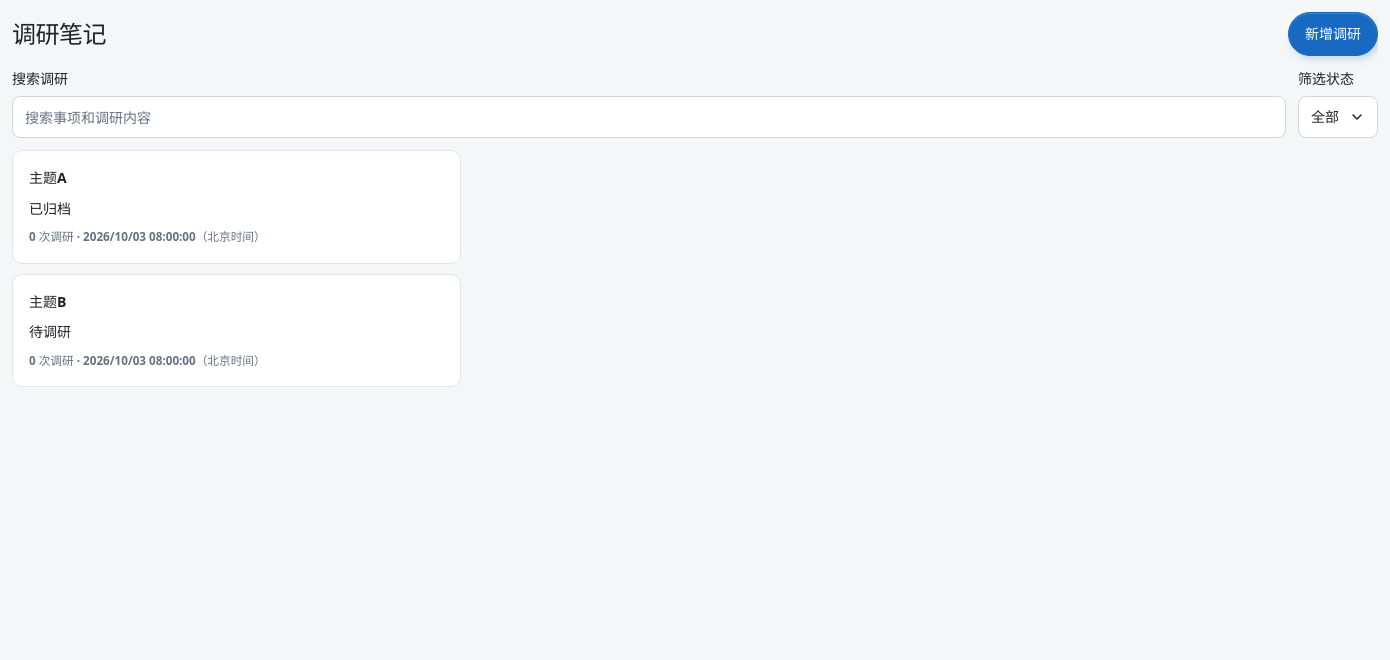
调研笔记 › 搜索研究内容并按状态筛选，保留当前详情
Click the button "主题A 已归档 0 次调研 · 2026/10/03 08:00:00（北京时间）": click(48, 178) top-left (12, 150), bottom-right (461, 264)
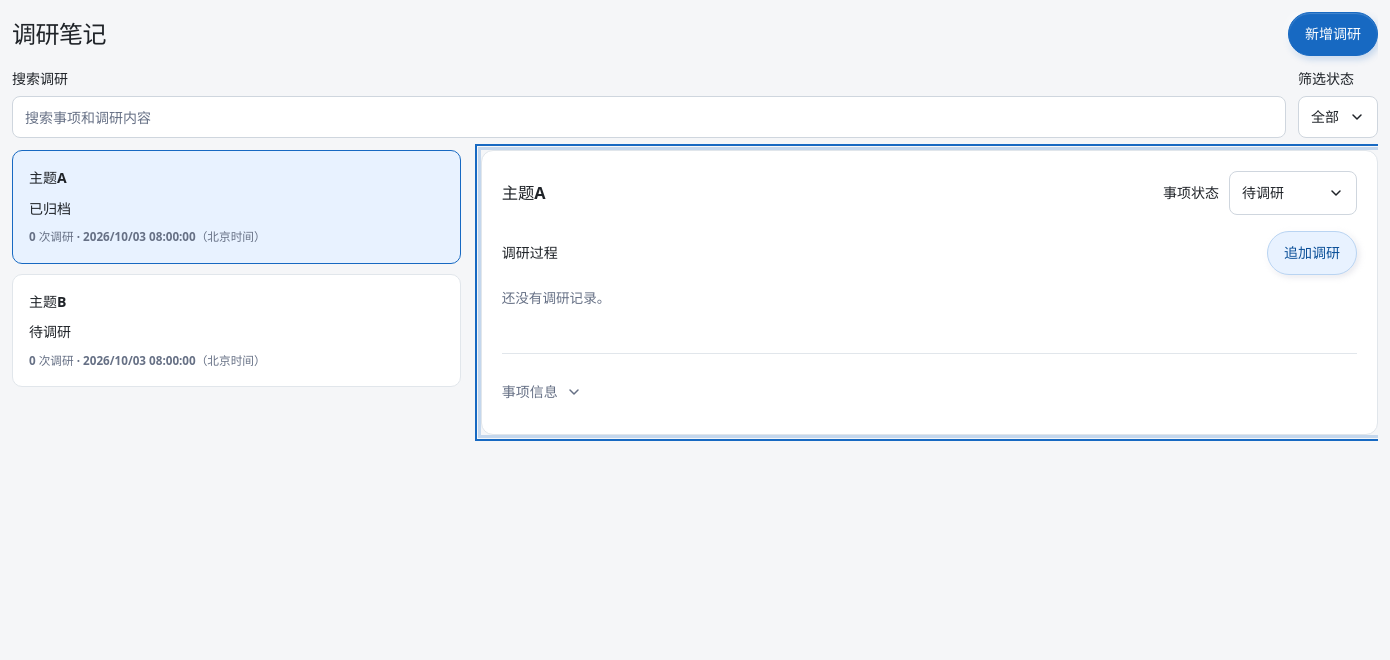
Click the button "追加调研": click(1312, 253) top-left (1267, 231), bottom-right (1357, 275)
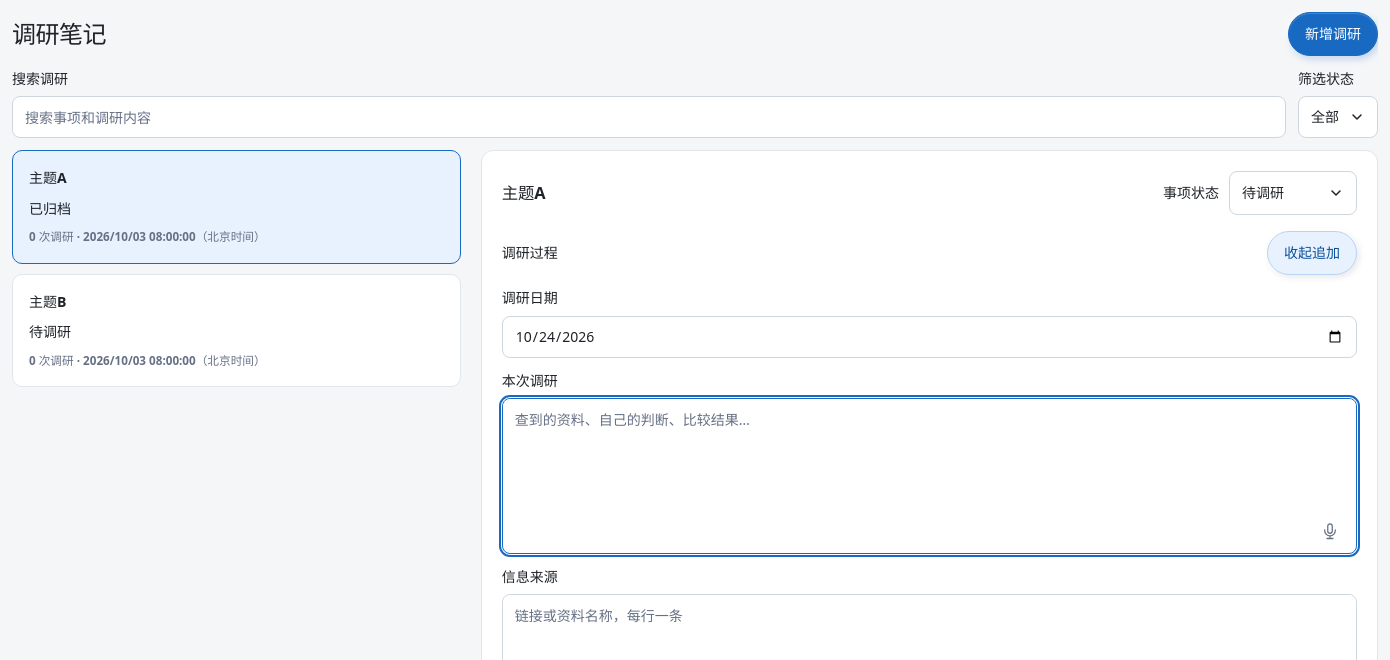
Click the dropdown labelled "全部": click(1338, 117) top-left (1298, 96), bottom-right (1378, 138)
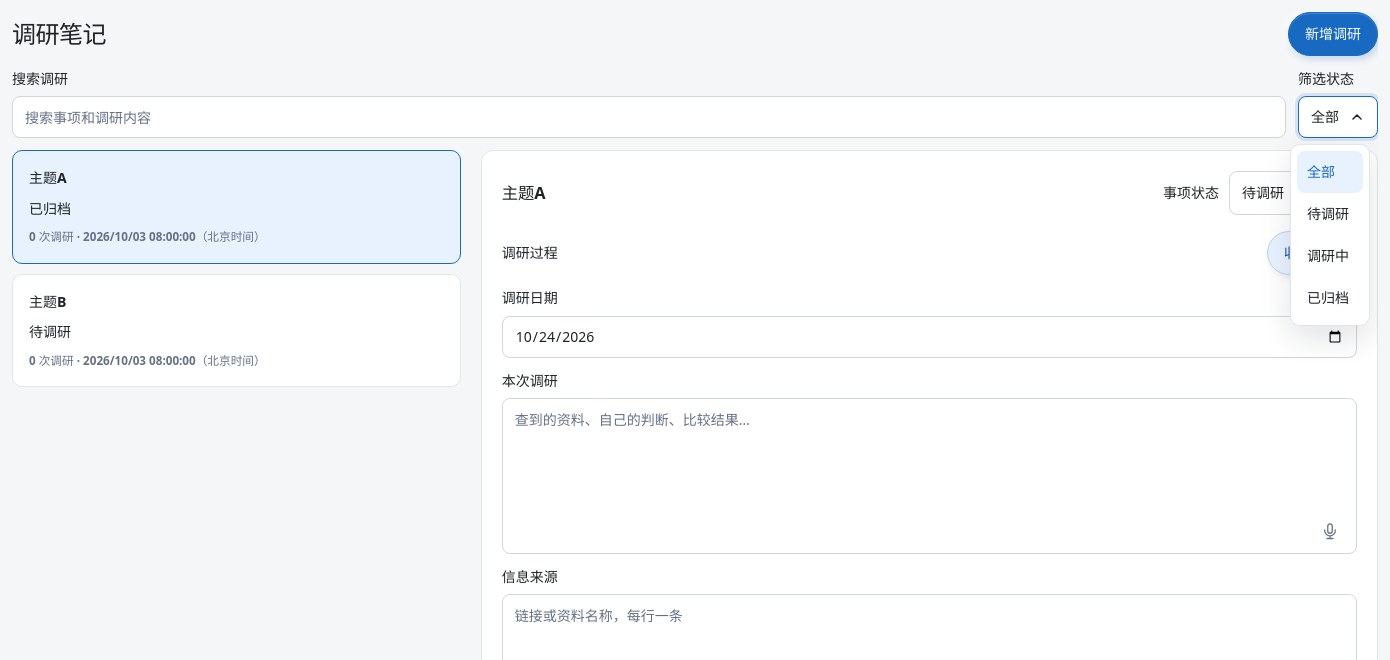
Click the option "已归档": click(1330, 298) top-left (1297, 277), bottom-right (1363, 319)
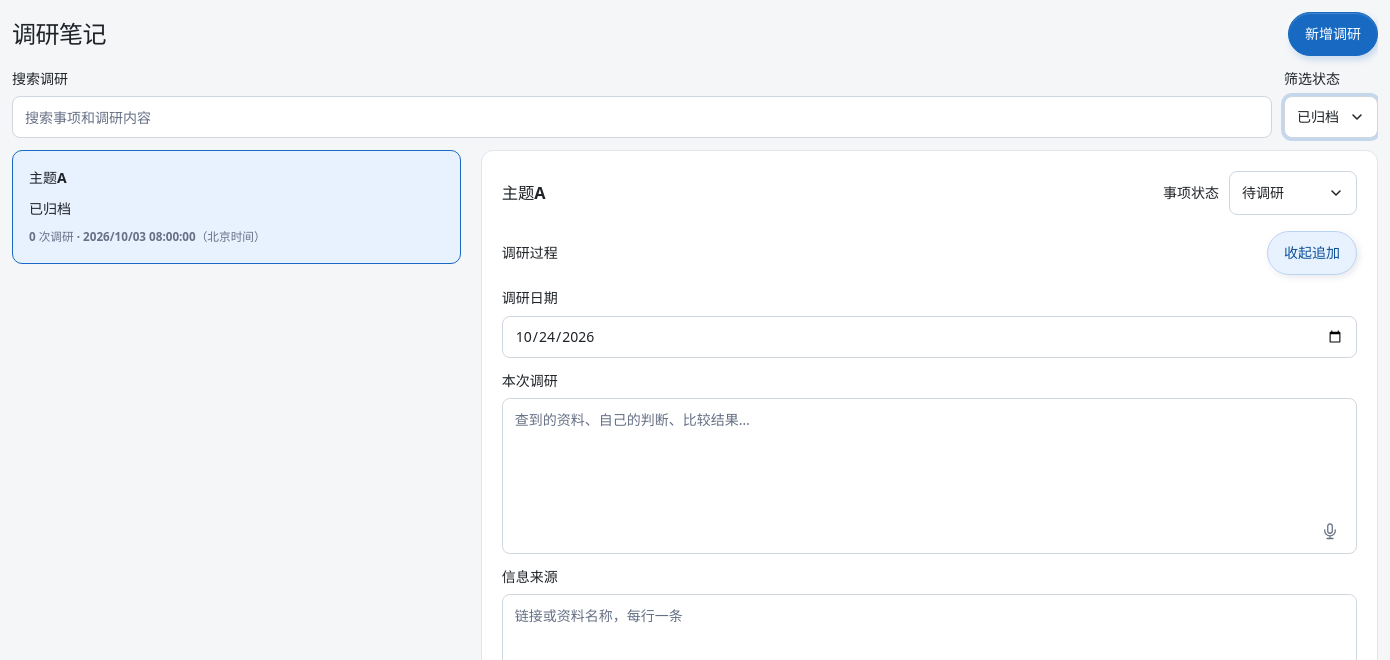
Expected: the button "主题B" is gone
In the search field labelled "搜索调研": (642, 117) top-left (12, 96), bottom-right (1272, 138), type "不存在的主题"
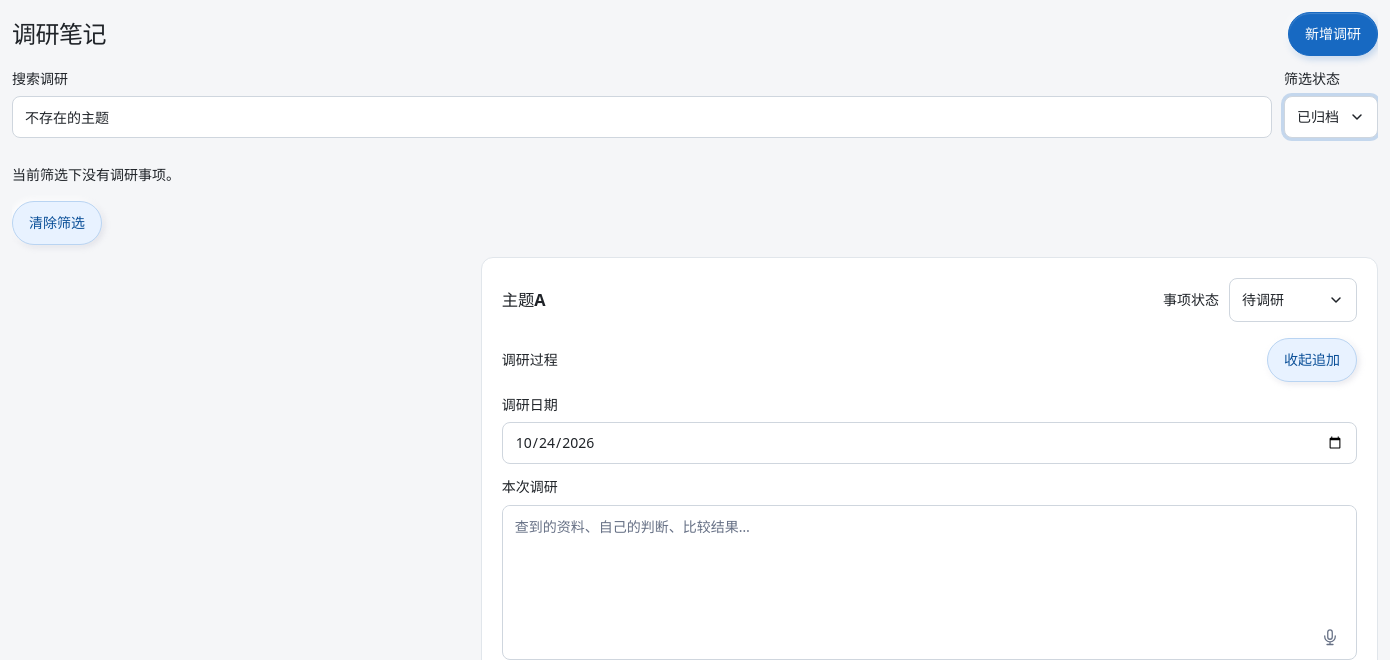
Expected: the heading "主题A" is shown, top-left (502, 289), bottom-right (546, 311)
Expected: the text "当前筛选下没有调研事项。" is shown, top-left (12, 165), bottom-right (180, 184)
